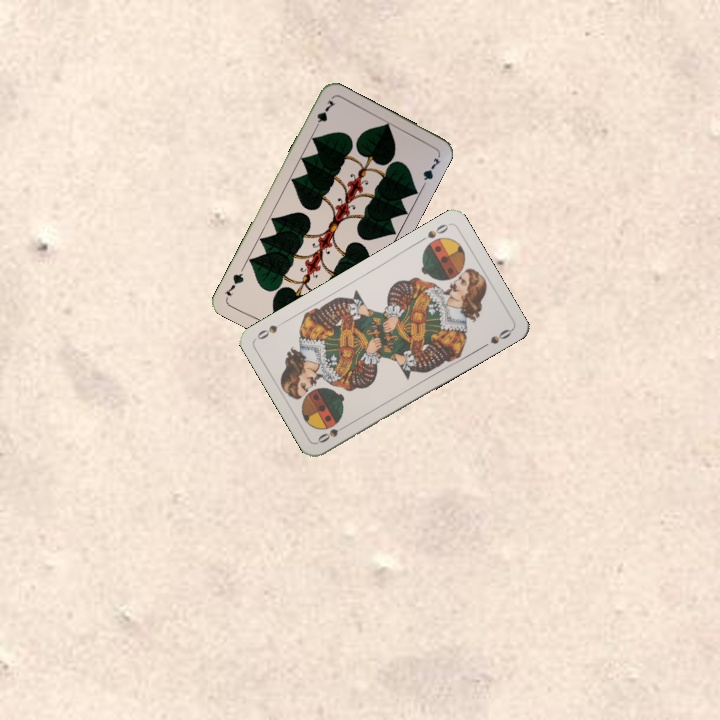G7: (310, 96, 337, 133)
SO: (314, 420, 351, 446), (415, 220, 451, 245)
